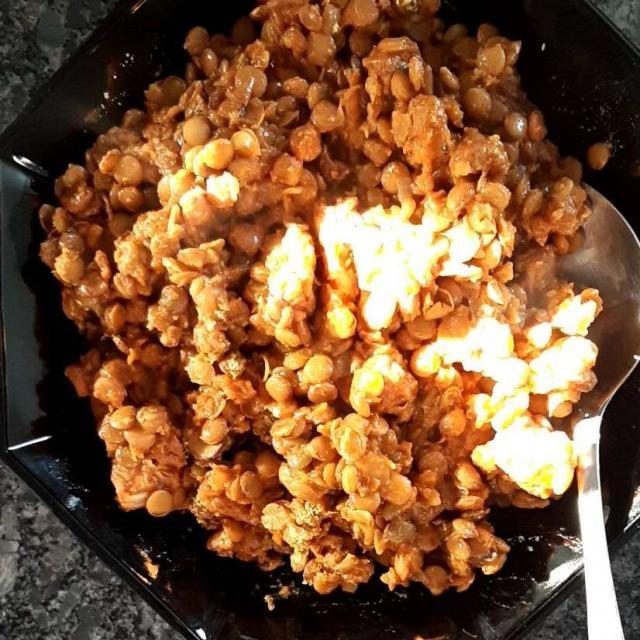lentils: (44, 11, 596, 602)
